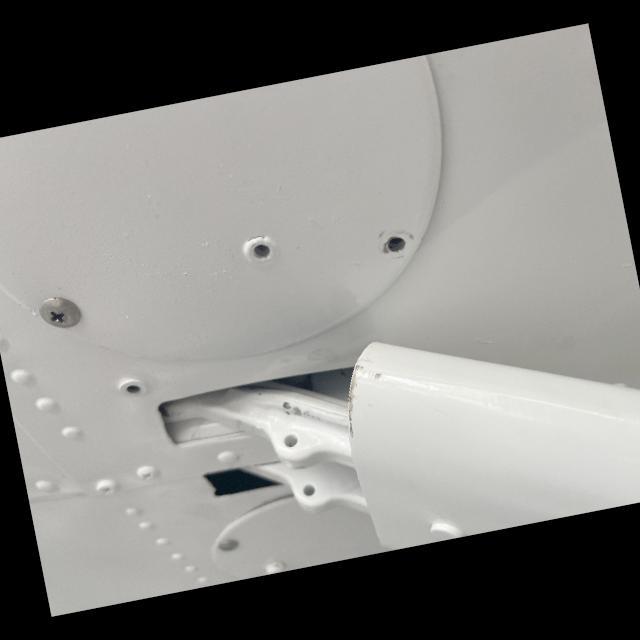Missing Fastener: (366, 224, 422, 263)
